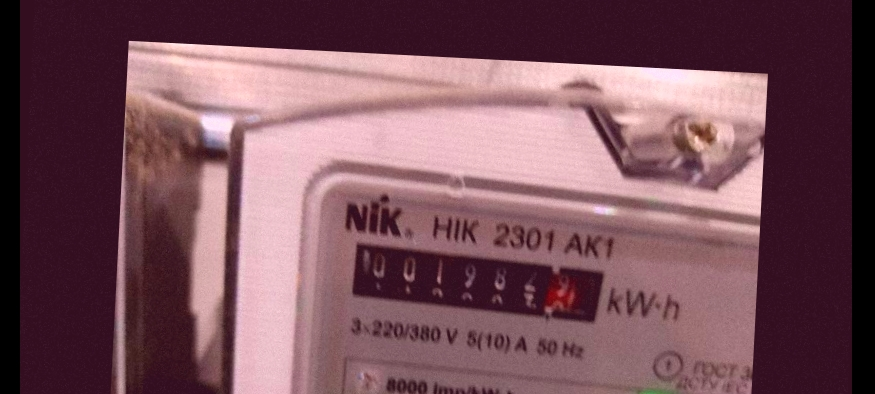0: (401, 253, 419, 283), (371, 249, 388, 279)
1: (432, 255, 446, 285)
2: (522, 263, 542, 293)
8: (492, 262, 510, 291)
9: (553, 270, 574, 299), (461, 260, 478, 289)
screen: (334, 227, 620, 337)
